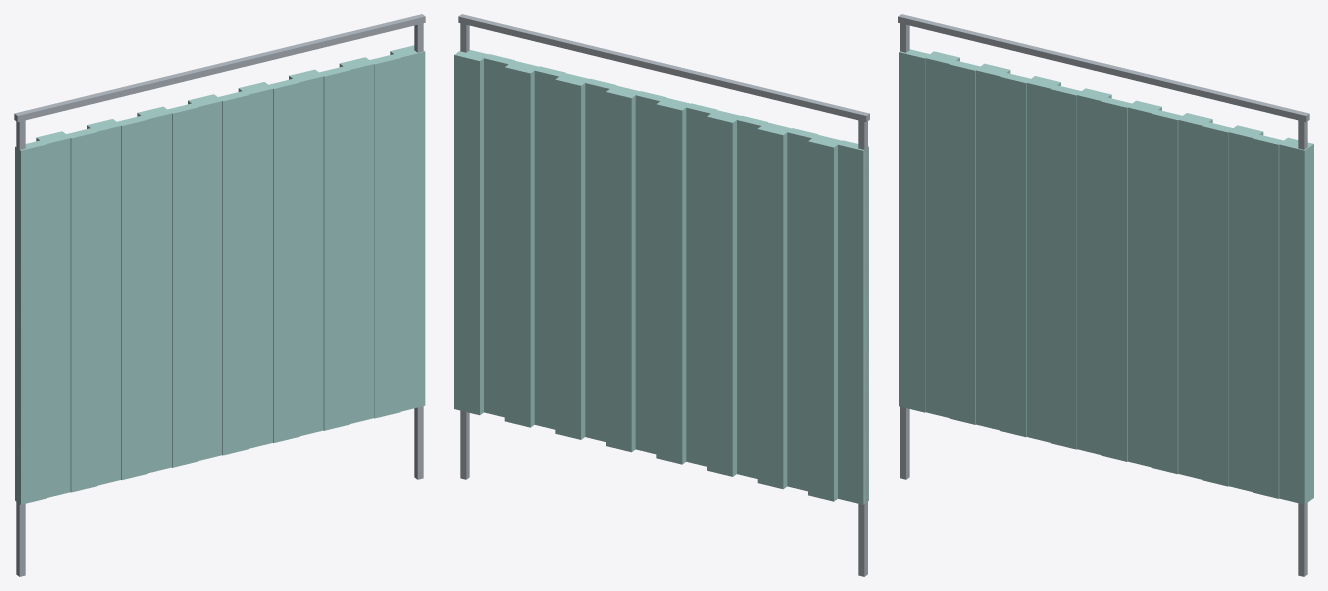
Rendered from privacy_curtain.fbx.
3 views of the same model, side by side, from view 1: azimuth 30°, elevation 25°; view 2: azimuth 150°, elevation 25°; view 3: azimuth 330°, elevation 25° (orthographic).
Parts seen in each view (by area): view 1: privacy_curtain; view 2: privacy_curtain; view 3: privacy_curtain.
Part boxes in pixels (<box>): privacy_curtain: <box>14,14,425,576</box>; privacy_curtain: <box>454,14,869,576</box>; privacy_curtain: <box>898,14,1313,576</box>.
Size of the model in its own units: 2.05 by 2.22 by 0.085.
1 material, 1 textured.
